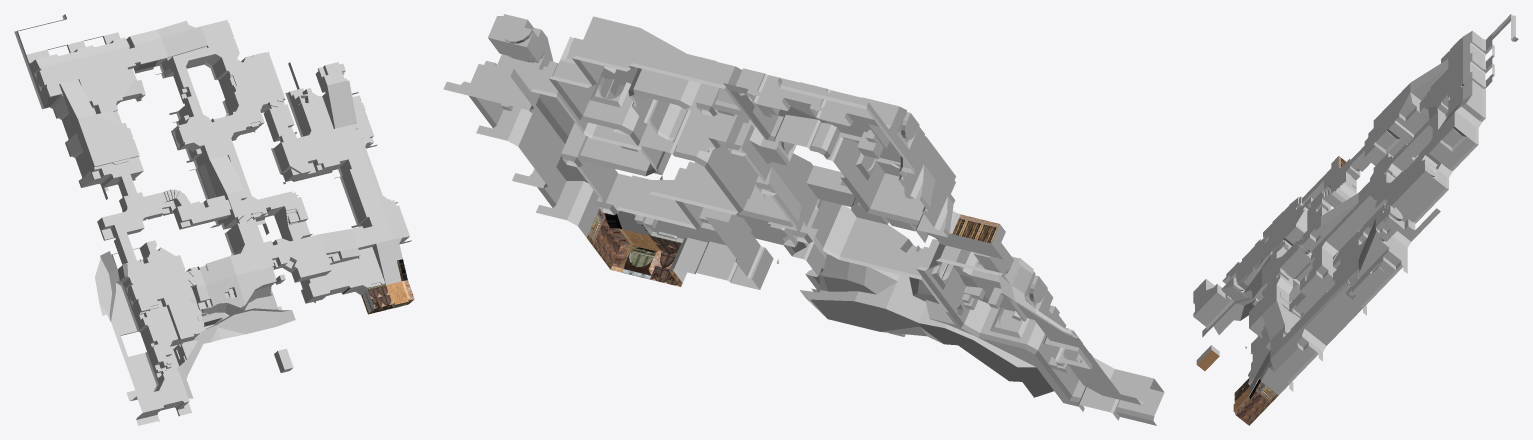
Rendered from de_dust2.obj.
3 renders of one model, left to right at view 1: azimuth 30°, elevation 25°; view 2: azimuth 150°, elevation 25°; view 3: azimuth 270°, elevation 25°, orthographic. The views are drawn at different scales.
Visible parts, largest first — view 1: _1415, _1119, _981, _210, _982, _908, _141, _1414, _1457, _677, _1104, _556 (+39 smaller); view 2: _373, _371, _445, _1432, _377, _1109, _74, _1118, _601, _58, _838, _869 (+18 smaller); view 3: _1261, _783, _433, _958, _265, _1415, _10, _995, _126, _1074, _165, _210 (+15 smaller).
Boxes of the visible parts, x1,y1,x2,y2 form: _1415: (88,67,140,104); _1119: (171,20,233,54); _981: (253,60,290,117); _210: (251,233,307,268); _982: (231,64,267,108); _908: (273,113,314,160); _141: (348,153,382,211); _1414: (81,47,131,76); _1457: (40,58,87,86); _677: (131,274,180,313); _1104: (182,39,243,70); _556: (167,267,205,311); _373: (839,268,1020,381); _371: (840,300,919,331); _445: (1111,369,1164,415); _1432: (664,51,734,85); _377: (937,338,1015,380); _1109: (633,69,688,100); _74: (800,270,845,323); _1118: (588,17,646,45); _601: (791,158,835,229); _58: (698,241,736,276); _838: (445,60,504,96); _869: (492,67,535,104); _1261: (1386,110,1418,156); _783: (1392,125,1432,169); _433: (1193,292,1229,326); _958: (1337,195,1375,239); _265: (1300,276,1330,307); _1415: (1427,74,1448,118); _10: (1236,390,1268,423); _995: (1391,178,1426,211); _126: (1308,294,1344,330); _1074: (1429,142,1460,169); _165: (1262,300,1282,333); _210: (1262,256,1287,304).
Size of the model in its own units: 4480 by 3951 by 3728.
